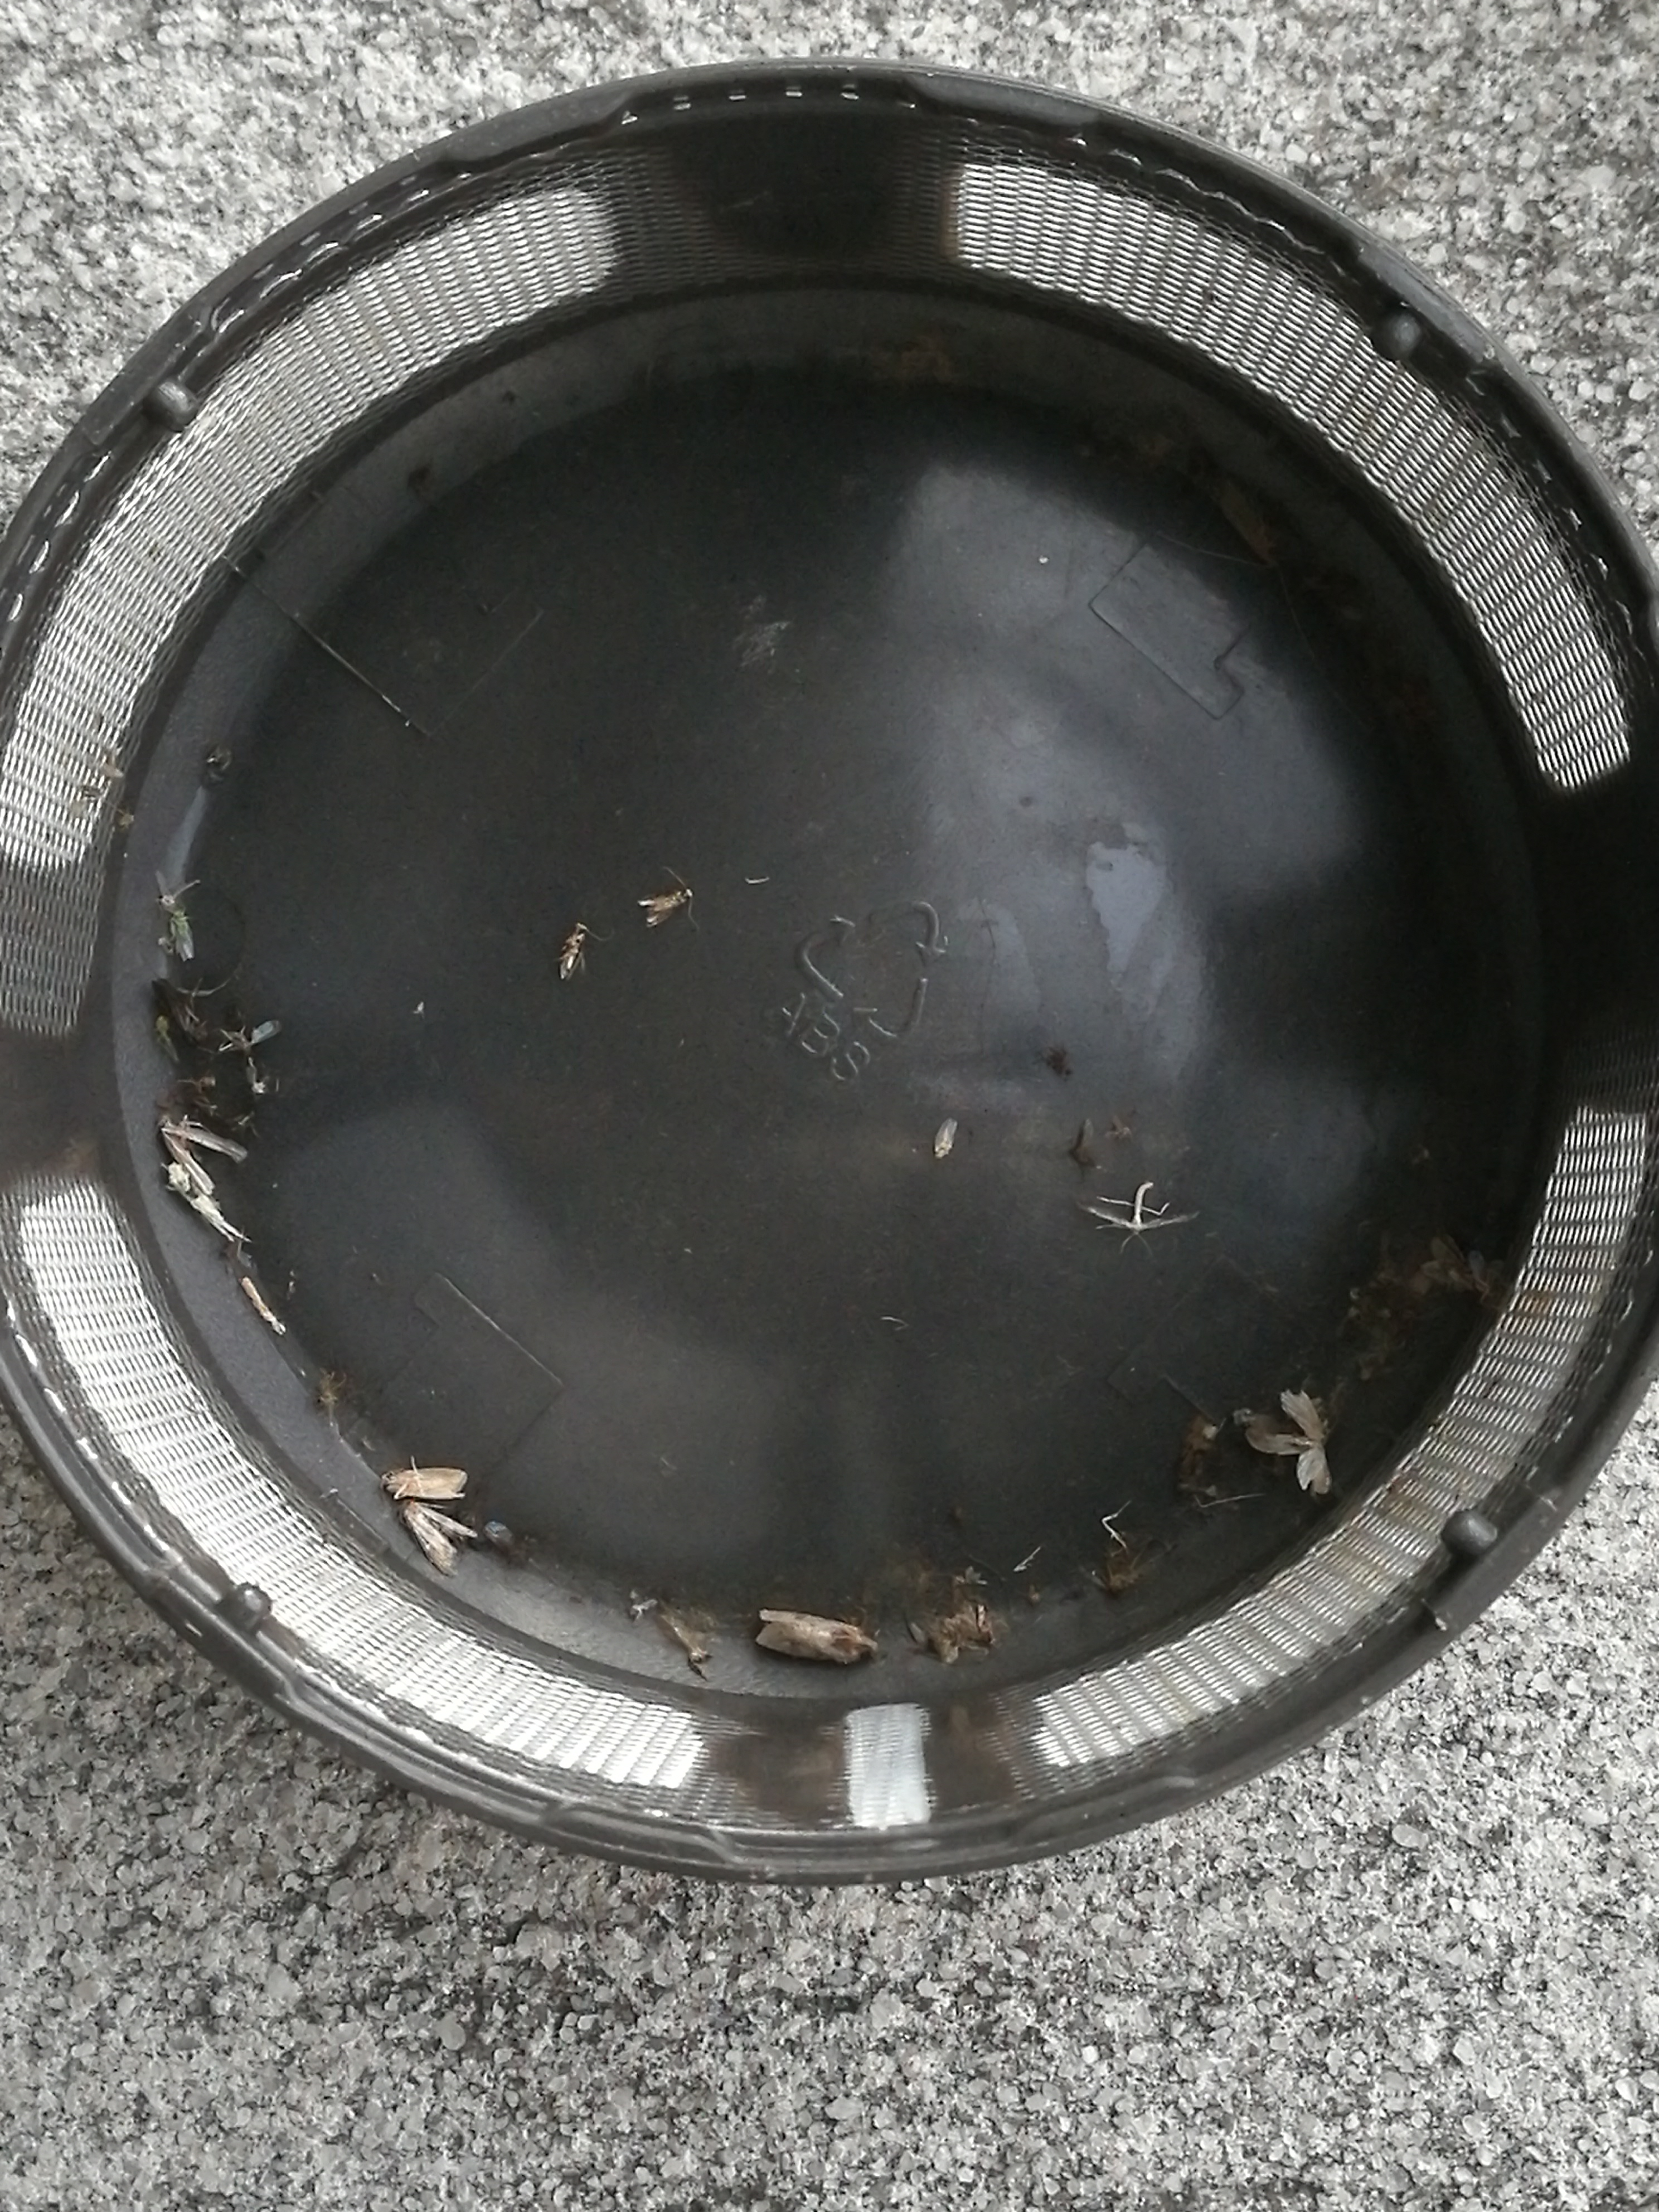mosquito: (153, 977, 206, 1043), (640, 890, 692, 925), (169, 909, 193, 960), (559, 932, 584, 977)
moth: (1246, 1390, 1330, 1494), (159, 1115, 247, 1195), (755, 1609, 877, 1663), (401, 1501, 477, 1576), (382, 1467, 465, 1500), (1420, 1233, 1467, 1287), (1466, 1252, 1504, 1294)
